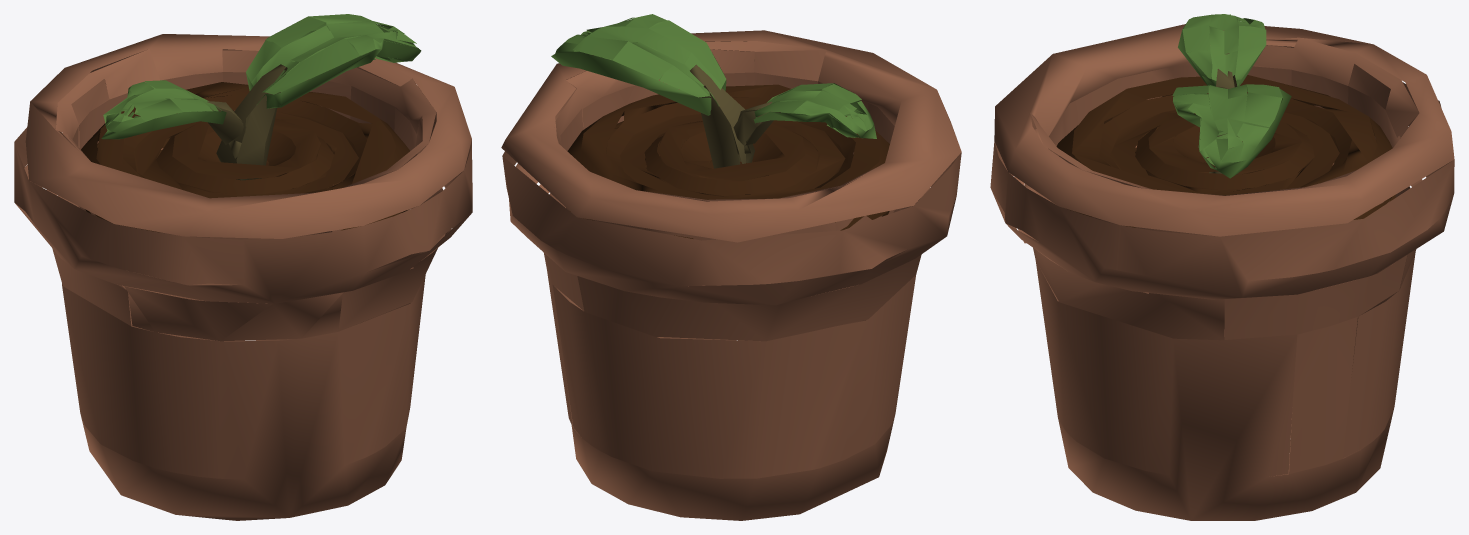
The model's file is potted_sprout.glb.
The picture shows the model from 3 angles, left to right: view 1: azimuth 30°, elevation 25°; view 2: azimuth 150°, elevation 25°; view 3: azimuth 270°, elevation 25°; orthographic projection. The views are drawn at different scales.
Parts seen in each view (by area): view 1: potted_sprout; view 2: potted_sprout; view 3: potted_sprout.
Part boxes in pixels (left/top/right/bottom): potted_sprout: left=14, top=14, right=472, bottom=520; potted_sprout: left=501, top=14, right=961, bottom=520; potted_sprout: left=990, top=14, right=1454, bottom=520.
Bounding box in the file's own units: 1.33 × 1.29 × 1.32.
